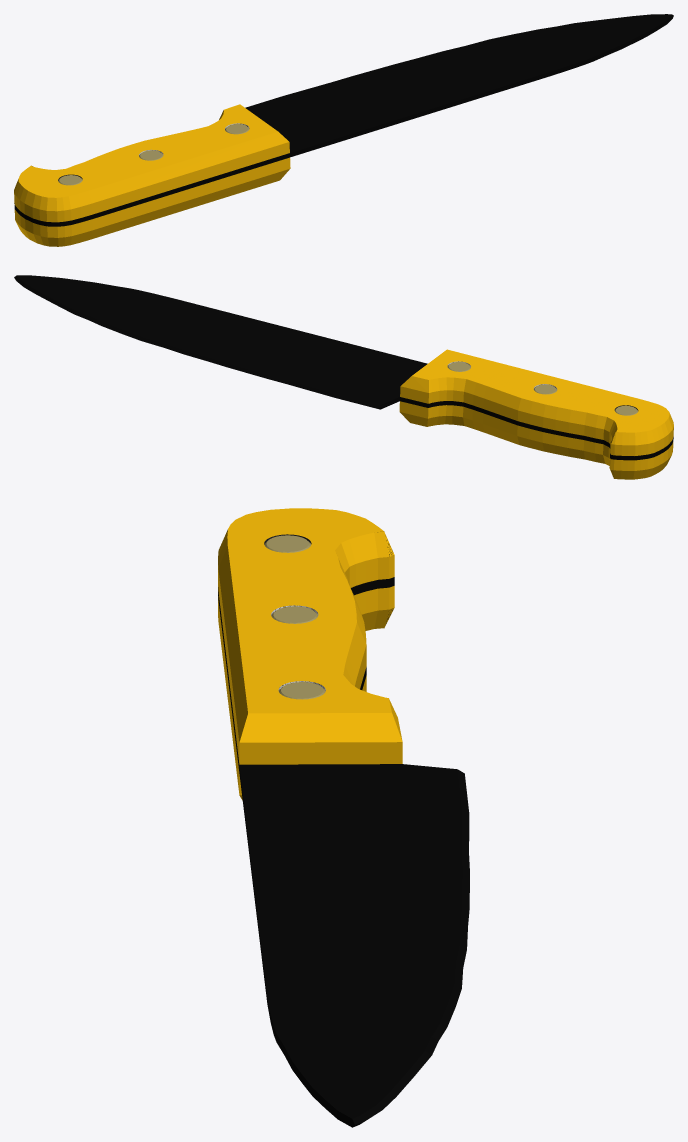
Rendered from knife_01_origin_gt_1.dae.
3 views of the same model, one above another, from view 1: azimuth 30°, elevation 25°; view 2: azimuth 150°, elevation 25°; view 3: azimuth 270°, elevation 25° (orthographic). The views are drawn at different scales.
Visible parts, largest first — view 1: blade, handle (×2); view 2: blade, handle (×2); view 3: blade, handle (×2).
Boxes of the visible parts, x1,y1,x2,y2 form: blade: (14,14,673,226); handle (×2): (14,104,290,246); blade: (14,275,673,460); handle (×2): (399,349,673,479); blade: (218,577,469,1127); handle (×2): (218,508,402,800).
Size of the model in its own units: 12.21 by 2.09 by 1.03.
